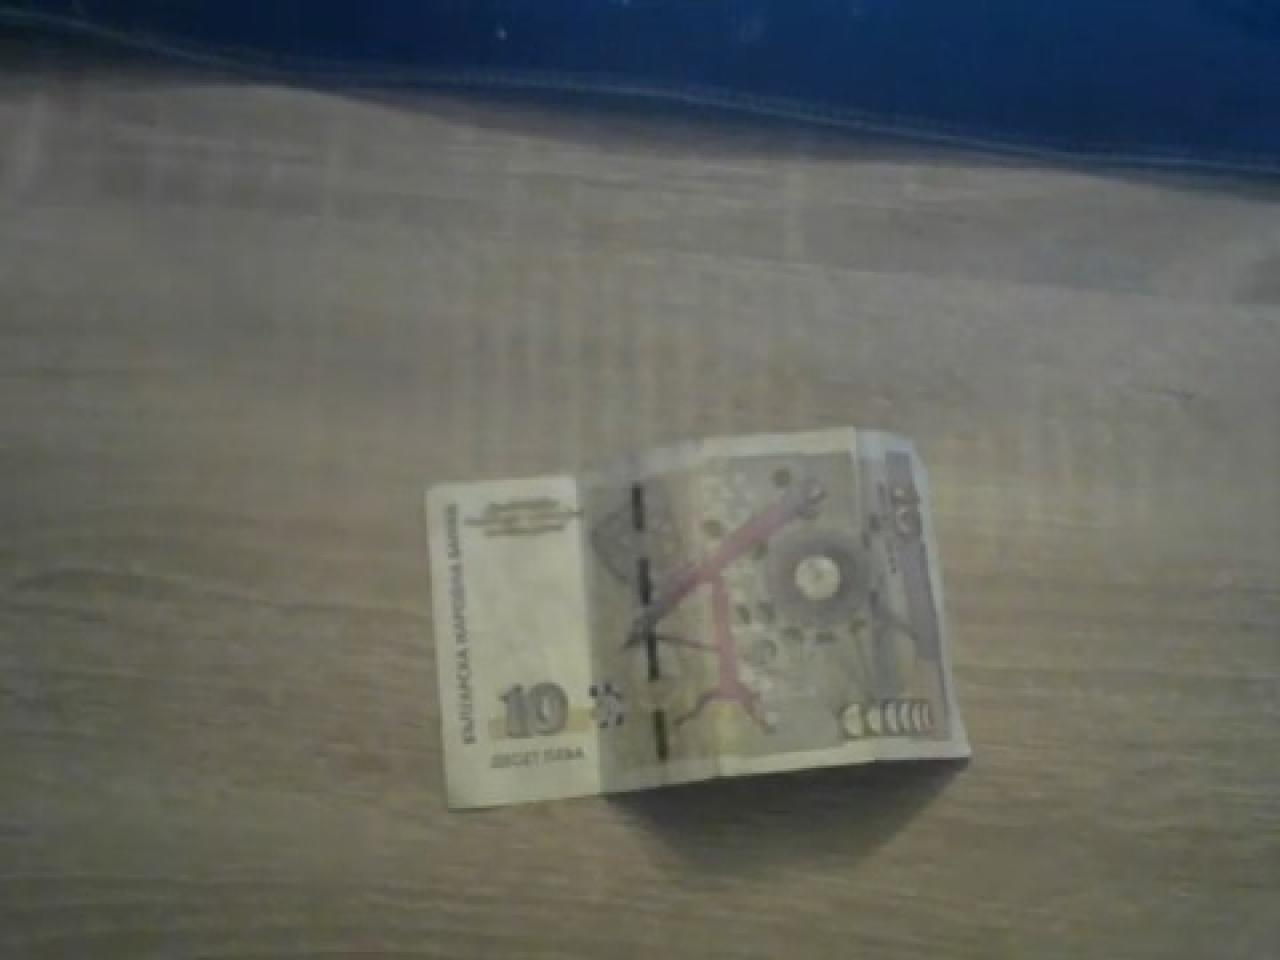10leva: (421, 430, 971, 814)
